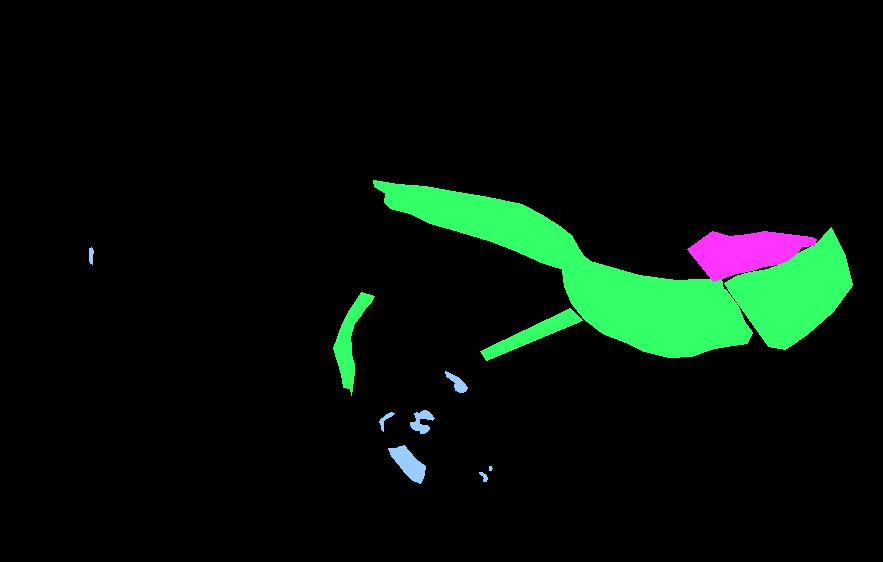Broken part: (373, 180, 723, 290), (562, 270, 752, 357), (724, 227, 852, 349), (480, 308, 582, 360), (333, 292, 374, 395)
Corrosion: (388, 445, 425, 483), (410, 410, 434, 433), (445, 371, 467, 392), (379, 412, 394, 431), (479, 472, 487, 481), (89, 247, 93, 264), (489, 466, 492, 470)
Dent: (687, 231, 816, 281)
